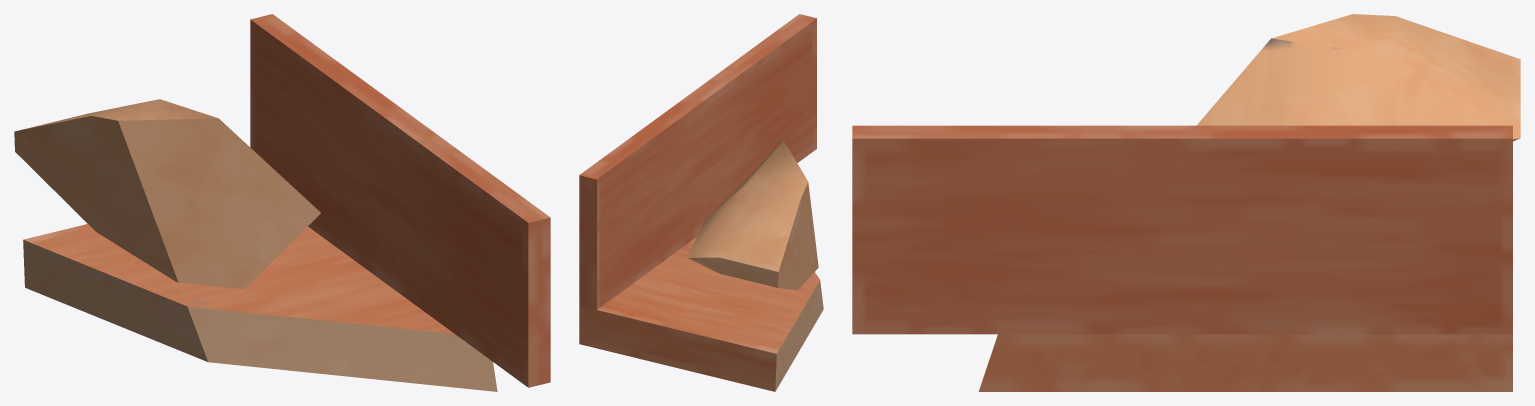
File: cart_s00.fbx
3 renders of one model, left to right at view 1: azimuth 30°, elevation 25°; view 2: azimuth 150°, elevation 25°; view 3: azimuth 270°, elevation 25°, orthographic. The views are drawn at different scales.
Parts seen in each view (by area): view 1: cart_s00; view 2: cart_s00; view 3: cart_s00.
Boxes of the visible parts, left/top/right/bottom form: cart_s00: left=14, top=14, right=550, bottom=391; cart_s00: left=579, top=14, right=823, bottom=391; cart_s00: left=852, top=14, right=1520, bottom=391.
Size of the model in its own units: 1.38 by 1.14 by 2.63.
